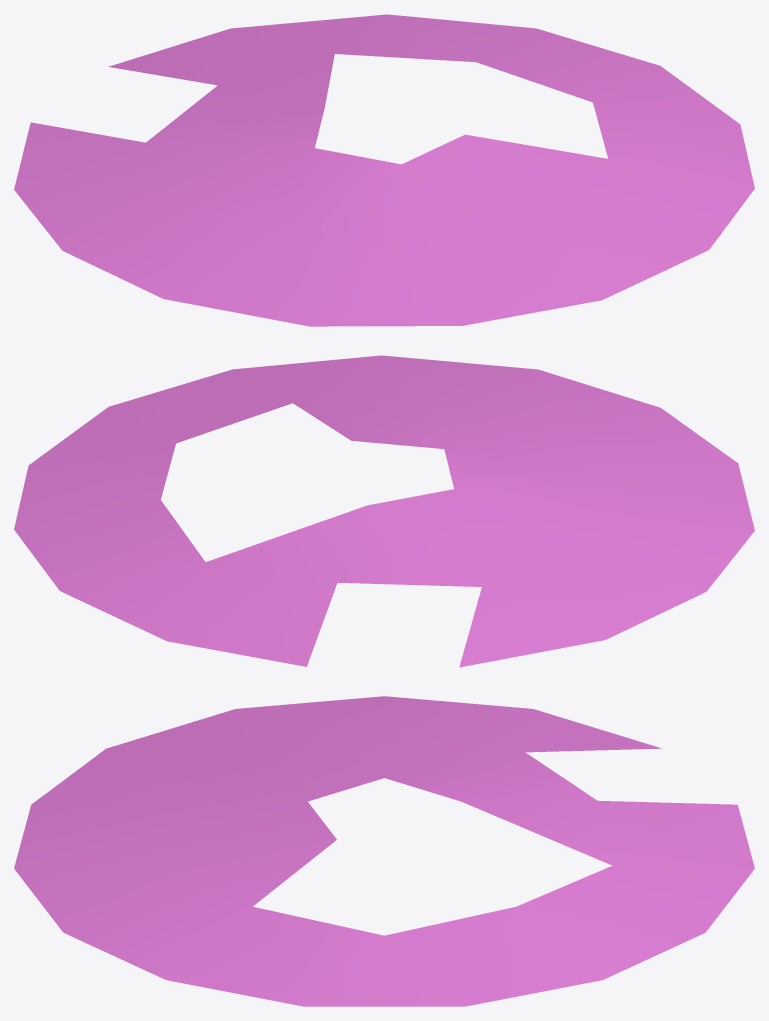
The model's file is clouds.fbx.
The picture shows the model from 3 angles, top to bottom: view 1: azimuth 30°, elevation 25°; view 2: azimuth 150°, elevation 25°; view 3: azimuth 270°, elevation 25°; orthographic projection.
Visible parts, largest first — view 1: clouds; view 2: clouds; view 3: clouds.
Boxes of the visible parts, x1,y1,x2,y2 form: clouds: [14, 14, 754, 326]; clouds: [14, 355, 754, 667]; clouds: [14, 696, 754, 1006].
Bounding box in the file's own units: 5.27e+08 × 3.24e+07 × 5.32e+08.
